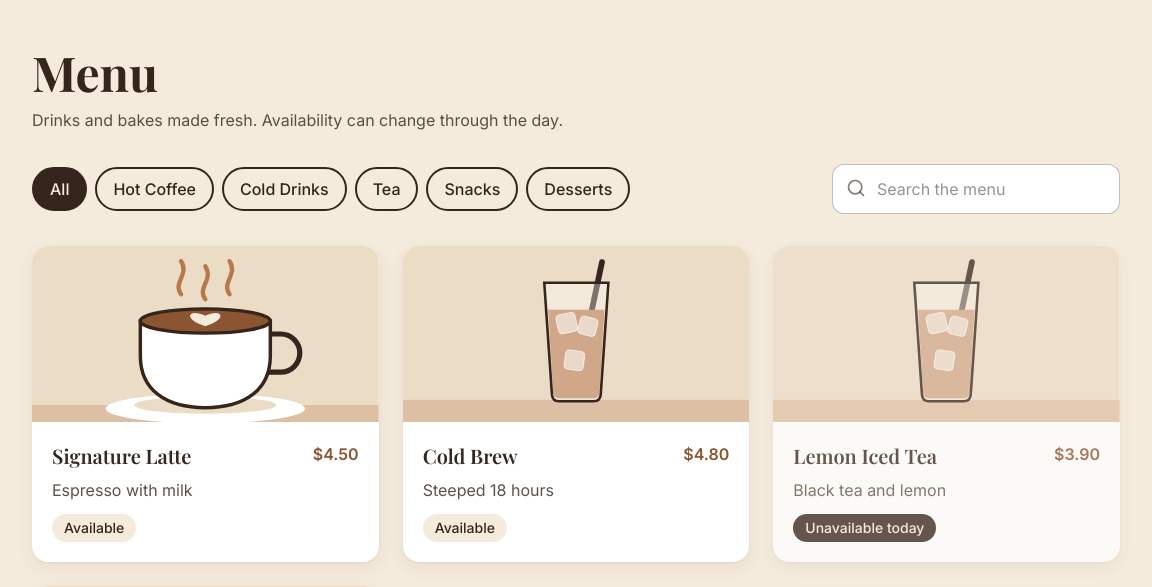
it: Menu page › combines search and category and shows an empty state with no matches
This screenshot has width=1152, height=587.
Expected: the heading "Signature Latte" is shown, [52,442,191,470]
Click the button "Tea". click: {"x": 386, "y": 189}
box: [355,167,418,211]
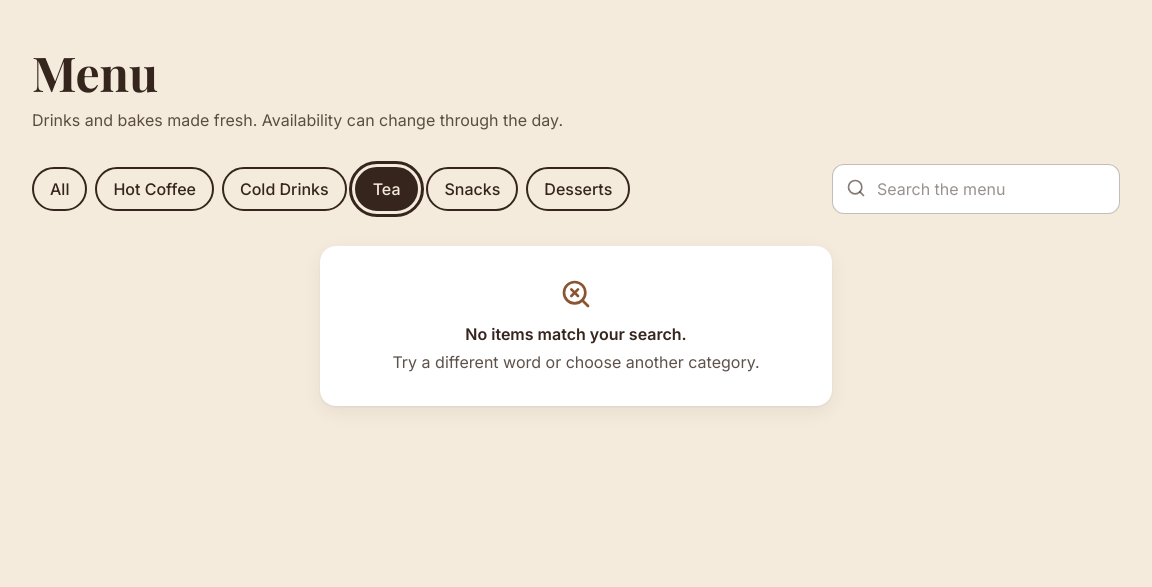
Expected: the text "No items match your search." is shown, [465,324,687,344]
